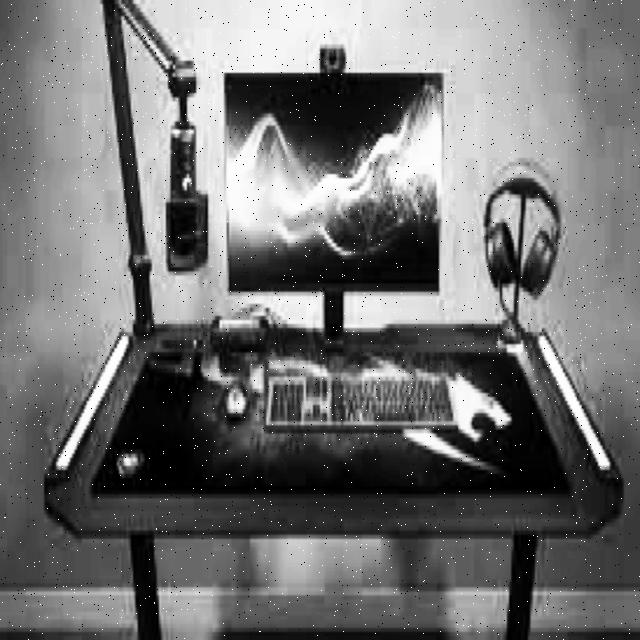table: (44, 312, 624, 640)
